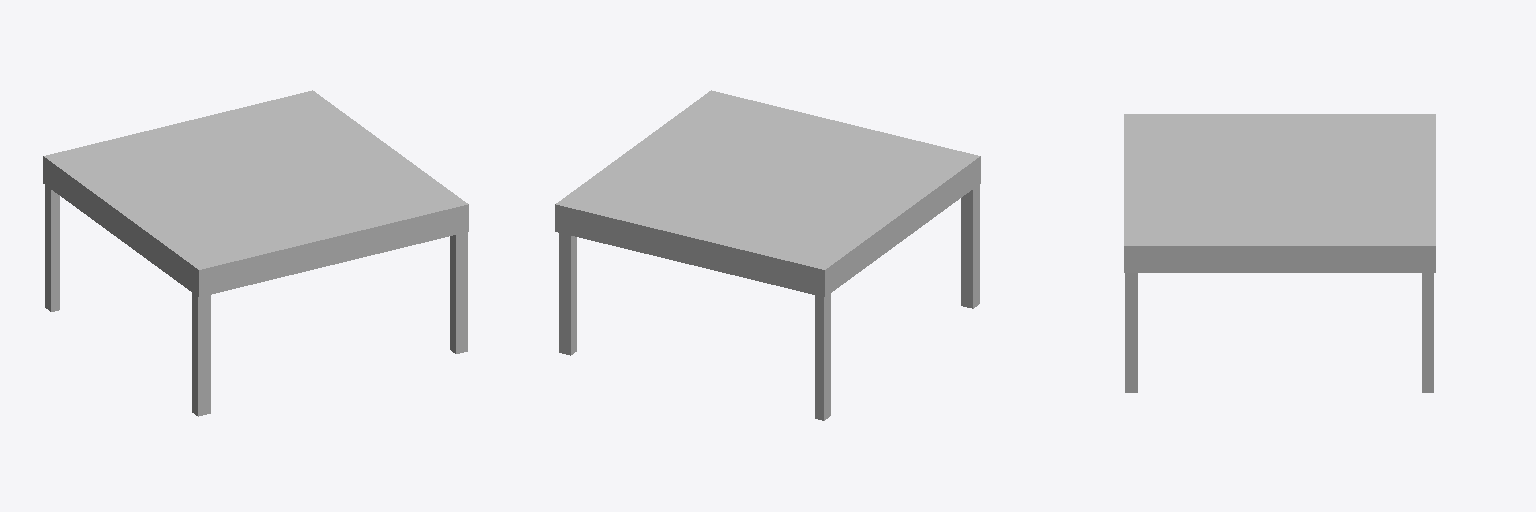
File: table.obj
The picture shows the model from 3 angles: view 1: azimuth 30°, elevation 25°; view 2: azimuth 150°, elevation 25°; view 3: azimuth 270°, elevation 25°; orthographic projection.
Parts seen in each view (by area): view 1: Cube; view 2: Cube; view 3: Cube.
Part boxes in pixels (bbox=[...]): Cube: bbox=[43, 90, 468, 416]; Cube: bbox=[555, 90, 980, 420]; Cube: bbox=[1124, 114, 1435, 392].
Size of the model in its own units: 2 by 1.07 by 2.